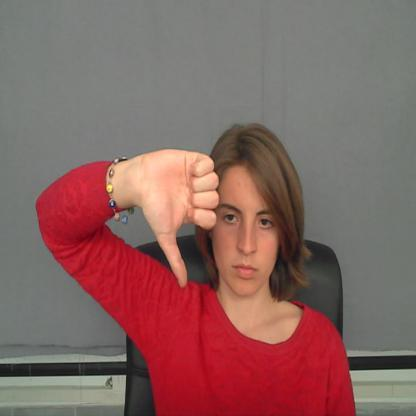thumbs-down: (138, 141, 219, 286)
